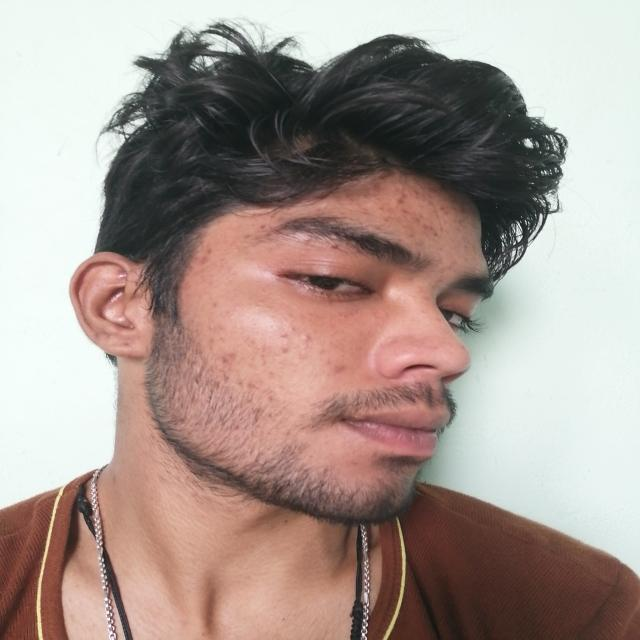Acne: (244, 338, 270, 357), (418, 214, 438, 232), (252, 370, 278, 383), (200, 248, 218, 266), (396, 192, 418, 205), (214, 350, 237, 362), (330, 361, 346, 376), (451, 204, 468, 218), (207, 301, 223, 313), (426, 184, 442, 196), (207, 337, 220, 351), (376, 202, 394, 212), (278, 345, 294, 355), (350, 455, 362, 468), (298, 332, 312, 342), (287, 322, 299, 332), (206, 325, 220, 332), (277, 332, 290, 339), (257, 223, 268, 230)
Englarged-Pores: (321, 326, 367, 364)
